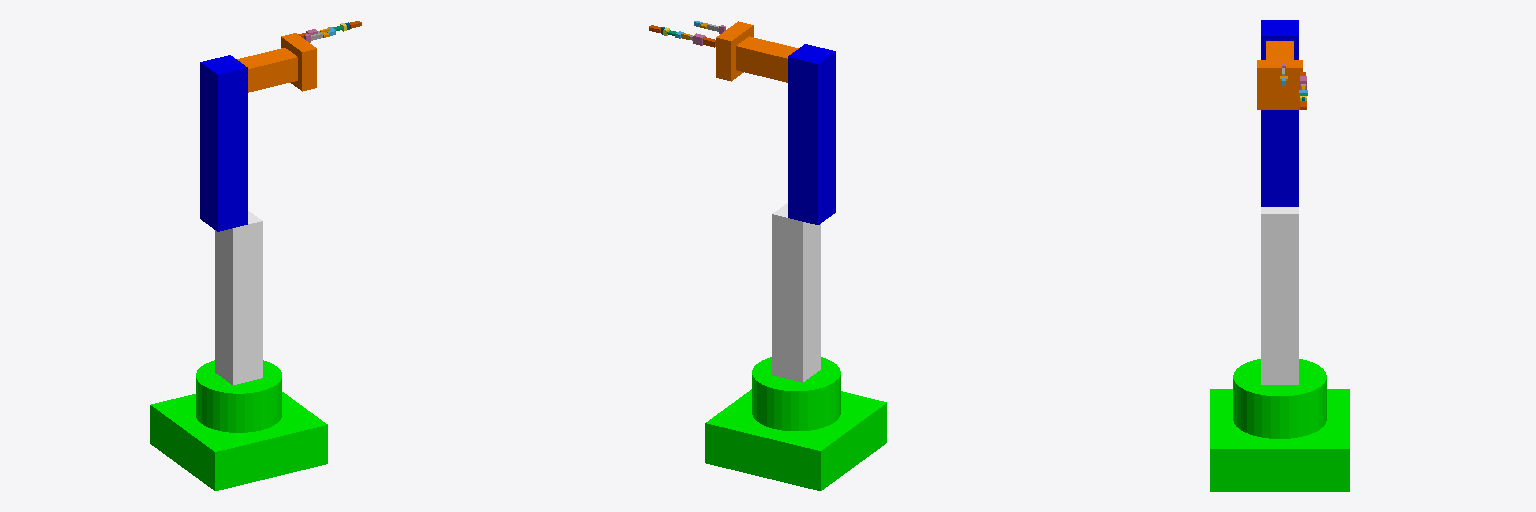
robot.urdf — robot:
<?xml version='1.0' encoding='utf-8'?>
<robot name="robot">
  <link name="base_link">
    <visual>
      <origin xyz="0 0 0.125" rpy="0 0 0" />
      <geometry>
        <box size="0.75 0.75 0.25" />
      </geometry>
      <material name="green" />
    </visual>
    <visual>
      <origin xyz="0 0 0.375" rpy="0 0 0" />
      <geometry>
        <cylinder length="0.25" radius="0.25" />
      </geometry>
      <material name="green">
        <color rgba="0 1 0 1" />
      </material>
    </visual>
    <collision>
      <geometry>
        <box size="0.75 0.75 0.5" />
      </geometry>
    </collision>
    <inertial>
      <mass value="0.5" />
      <inertia ixx="0.034" ixy="0.0" ixz="0.0" iyy="0.034" iyz="0.0" izz="0.034" />
    </inertial>
  </link>
  <link name="support_link">
    <visual>
      <origin xyz="0 0 0.5" rpy="0 0 0" />
      <geometry>
        <box size="0.2 0.2 1" />
      </geometry>
      <material name="white">
        <color rgba="1 1 1 1" />
      </material>
    </visual>
    <collision>
      <geometry>
        <box size="0.2 0.2 1" />
      </geometry>
    </collision>
    <inertial>
      <mass value="0.1" />
      <inertia ixx="0.01" ixy="0.0" ixz="0.0" iyy="0.01" iyz="0.0" izz="0.01" />
    </inertial>
  </link>
  <joint name="support_joint" type="continuous">
    <origin xyz="0 0 0.5" rpy="0 0 0" />
    <parent link="base_link" />
    <child link="support_link" />
    <axis xyz="0 0 1" />
  </joint>
  <link name="arm_link">
    <visual>
      <origin xyz="0 0 0.5" rpy="0 0 0" />
      <geometry>
        <box size="0.2 0.2 1" />
      </geometry>
      <material name="blue">
        <color rgba="0 0 1 1" />
      </material>
    </visual>
    <collision>
      <geometry>
        <box size="0.2 0.2 1" />
      </geometry>
    </collision>
    <inertial>
      <mass value="0.1" />
      <inertia ixx="0.01" ixy="0.0" ixz="0.0" iyy="0.01" iyz="0.0" izz="0.01" />
    </inertial>
  </link>
  <joint name="arm_joint" type="revolute">
    <origin xyz="-0.1 0 1" rpy="0 0 0" />
    <parent link="support_link" />
    <child link="arm_link" />
    <axis xyz="0 1 0" />
    <limit lower="-3.14" upper="3.14" effort="1.0" velocity="1.0" />
  </joint>
  <link name="wrist_link">
    <visual>
      <origin xyz="0 0 0.25" rpy="0 0 0" />
      <geometry>
        <box size="0.15 0.15 0.5" />
      </geometry>
      <material name="orange">
        <color rgba="1 0.5 0 1" />
      </material>
    </visual>
    <collision>
      <geometry>
        <box size="0.15 0.15 0.5" />
      </geometry>
    </collision>
    <inertial>
      <mass value="0.1" />
      <inertia ixx="0.01" ixy="0.0" ixz="0.0" iyy="0.01" iyz="0.0" izz="0.01" />
    </inertial>
  </link>
  <joint name="wrist_joint" type="fixed">
    <origin xyz="0 0 0.9" rpy="0 1.571 0" />
    <parent link="arm_link" />
    <child link="wrist_link" />
  </joint>
  <link name="palm_link">
    <visual>
      <origin xyz="0 0 0.05" rpy="0 0 0" />
      <geometry>
        <box size="0.25 0.25 0.1" />
      </geometry>
      <material name="orange" />
    </visual>
    <collision>
      <geometry>
        <box size="0.25 0.25 0.1" />
      </geometry>
    </collision>
    <inertial>
      <mass value="0.1" />
      <inertia ixx="0.01" ixy="0.0" ixz="0.0" iyy="0.01" iyz="0.0" izz="0.01" />
    </inertial>
  </link>
  <joint name="palm_joint" type="fixed">
    <origin xyz="0 0 0.45" rpy="0 0 0" />
    <parent link="wrist_link" />
    <child link="palm_link" />
  </joint>
  <link name="link_0_0">
    <visual>
      <origin xyz="0 0 0.039" rpy="0 0 0" />
      <geometry>
        <box size="0.034 0.032 0.078" />
      </geometry>
    </visual>
    <collision>
      <geometry>
        <box size="0.034 0.032 0.078" />
      </geometry>
    </collision>
    <inertial>
      <mass value="0.025" />
      <inertia ixx="0.0" iyy="0.0" izz="0.0" ixy="0" ixz="0" iyz="0" />
    </inertial>
  </link>
  <joint name="joint_palm_link_to_link_0_0" type="revolute">
    <origin xyz="-0.086 0.125 0.1" rpy="0 0 0" />
    <parent link="palm_link" />
    <child link="link_0_0" />
    <axis xyz="0.404 0.77 0.32" />
    <limit lower="-3.142" upper="3.142" effort="10" velocity="10" />
  </joint>
  <link name="link_0_1">
    <visual>
      <origin xyz="0 0 0.03" rpy="0 0 0" />
      <geometry>
        <box size="0.05 0.038 0.06" />
      </geometry>
    </visual>
    <collision>
      <geometry>
        <box size="0.05 0.038 0.06" />
      </geometry>
    </collision>
    <inertial>
      <mass value="0.034" />
      <inertia ixx="0.0" iyy="0.0" izz="0.0" ixy="0" ixz="0" iyz="0" />
    </inertial>
  </link>
  <joint name="joint_link_0_0_to_link_0_1" type="revolute">
    <origin xyz="0.0 0.0 0.078" rpy="0 0 0" />
    <parent link="link_0_0" />
    <child link="link_0_1" />
    <axis xyz="0.811 0.108 0.521" />
    <limit lower="-3.142" upper="3.142" effort="10" velocity="10" />
  </joint>
  <link name="link_0_2">
    <visual>
      <origin xyz="0 0 0.0125" rpy="0 0 0" />
      <geometry>
        <box size="0.021 0.022 0.025" />
      </geometry>
    </visual>
    <collision>
      <geometry>
        <box size="0.021 0.022 0.025" />
      </geometry>
    </collision>
    <inertial>
      <mass value="0.003" />
      <inertia ixx="0.0" iyy="0.0" izz="0.0" ixy="0" ixz="0" iyz="0" />
    </inertial>
  </link>
  <joint name="joint_link_0_1_to_link_0_2" type="revolute">
    <origin xyz="0.0 0.0 0.06" rpy="0 0 0" />
    <parent link="link_0_1" />
    <child link="link_0_2" />
    <axis xyz="0.904 0.073 0.923" />
    <limit lower="-3.142" upper="3.142" effort="10" velocity="10" />
  </joint>
  <link name="link_0_3">
    <visual>
      <origin xyz="0 0 0.0285" rpy="0 0 0" />
      <geometry>
        <box size="0.028 0.017 0.057" />
      </geometry>
    </visual>
    <collision>
      <geometry>
        <box size="0.028 0.017 0.057" />
      </geometry>
    </collision>
    <inertial>
      <mass value="0.008" />
      <inertia ixx="0.0" iyy="0.0" izz="0.0" ixy="0" ixz="0" iyz="0" />
    </inertial>
  </link>
  <joint name="joint_link_0_2_to_link_0_3" type="revolute">
    <origin xyz="0.0 0.0 0.025" rpy="0 0 0" />
    <parent link="link_0_2" />
    <child link="link_0_3" />
    <axis xyz="0.7 0.169 0.557" />
    <limit lower="-3.142" upper="3.142" effort="10" velocity="10" />
  </joint>
  <link name="link_0_4">
    <visual>
      <origin xyz="0 0 0.016" rpy="0 0 0" />
      <geometry>
        <box size="0.023 0.044 0.032" />
      </geometry>
    </visual>
    <collision>
      <geometry>
        <box size="0.023 0.044 0.032" />
      </geometry>
    </collision>
    <inertial>
      <mass value="0.01" />
      <inertia ixx="0.0" iyy="0.0" izz="0.0" ixy="0" ixz="0" iyz="0" />
    </inertial>
  </link>
  <joint name="joint_link_0_3_to_link_0_4" type="revolute">
    <origin xyz="0.0 0.0 0.057" rpy="0 0 0" />
    <parent link="link_0_3" />
    <child link="link_0_4" />
    <axis xyz="0.898 0.816 0.407" />
    <limit lower="-3.142" upper="3.142" effort="10" velocity="10" />
  </joint>
  <link name="link_0_5">
    <visual>
      <origin xyz="0 0 0.0275" rpy="0 0 0" />
      <geometry>
        <box size="0.012 0.034 0.055" />
      </geometry>
    </visual>
    <collision>
      <geometry>
        <box size="0.012 0.034 0.055" />
      </geometry>
    </collision>
    <inertial>
      <mass value="0.007" />
      <inertia ixx="0.0" iyy="0.0" izz="0.0" ixy="0" ixz="0" iyz="0" />
    </inertial>
  </link>
  <joint name="joint_link_0_4_to_link_0_5" type="revolute">
    <origin xyz="0.0 0.0 0.032" rpy="0 0 0" />
    <parent link="link_0_4" />
    <child link="link_0_5" />
    <axis xyz="0.785 0.339 0.425" />
    <limit lower="-3.142" upper="3.142" effort="10" velocity="10" />
  </joint>
  <link name="link_0_6">
    <visual>
      <origin xyz="0 0 0.0125" rpy="0 0 0" />
      <geometry>
        <box size="0.035 0.038 0.025" />
      </geometry>
    </visual>
    <collision>
      <geometry>
        <box size="0.035 0.038 0.025" />
      </geometry>
    </collision>
    <inertial>
      <mass value="0.01" />
      <inertia ixx="0.0" iyy="0.0" izz="0.0" ixy="0" ixz="0" iyz="0" />
    </inertial>
  </link>
  <joint name="joint_link_0_5_to_link_0_6" type="revolute">
    <origin xyz="0.0 0.0 0.055" rpy="0 0 0" />
    <parent link="link_0_5" />
    <child link="link_0_6" />
    <axis xyz="0.419 0.282 0.844" />
    <limit lower="-3.142" upper="3.142" effort="10" velocity="10" />
  </joint>
  <link name="link_0_7">
    <visual>
      <origin xyz="0 0 0.0115" rpy="0 0 0" />
      <geometry>
        <box size="0.04 0.017 0.023" />
      </geometry>
    </visual>
    <collision>
      <geometry>
        <box size="0.04 0.017 0.023" />
      </geometry>
    </collision>
    <inertial>
      <mass value="0.005" />
      <inertia ixx="0.0" iyy="0.0" izz="0.0" ixy="0" ixz="0" iyz="0" />
    </inertial>
  </link>
  <joint name="joint_link_0_6_to_link_0_7" type="revolute">
    <origin xyz="0.0 0.0 0.025" rpy="0 0 0" />
    <parent link="link_0_6" />
    <child link="link_0_7" />
    <axis xyz="0.996 0.958 0.288" />
    <limit lower="-3.142" upper="3.142" effort="10" velocity="10" />
  </joint>
  <link name="link_0_8">
    <visual>
      <origin xyz="0 0 0.037" rpy="0 0 0" />
      <geometry>
        <box size="0.022 0.034 0.074" />
      </geometry>
    </visual>
    <collision>
      <geometry>
        <box size="0.022 0.034 0.074" />
      </geometry>
    </collision>
    <inertial>
      <mass value="0.017" />
      <inertia ixx="0.0" iyy="0.0" izz="0.0" ixy="0" ixz="0" iyz="0" />
    </inertial>
  </link>
  <joint name="joint_link_0_7_to_link_0_8" type="revolute">
    <origin xyz="0.0 0.0 0.023" rpy="0 0 0" />
    <parent link="link_0_7" />
    <child link="link_0_8" />
    <axis xyz="0.706 0.774 0.224" />
    <limit lower="-3.142" upper="3.142" effort="10" velocity="10" />
  </joint>
  <link name="link_1_0">
    <visual>
      <origin xyz="0 0 0.016" rpy="0 0 0" />
      <geometry>
        <box size="0.049 0.022 0.032" />
      </geometry>
    </visual>
    <collision>
      <geometry>
        <box size="0.049 0.022 0.032" />
      </geometry>
    </collision>
    <inertial>
      <mass value="0.01" />
      <inertia ixx="0.0" iyy="0.0" izz="0.0" ixy="0" ixz="0" iyz="0" />
    </inertial>
  </link>
  <joint name="joint_palm_link_to_link_1_0" type="revolute">
    <origin xyz="-0.125 0.02 0.1" rpy="0 0 0" />
    <parent link="palm_link" />
    <child link="link_1_0" />
    <axis xyz="0.458 0.132 0.81" />
    <limit lower="-3.142" upper="3.142" effort="10" velocity="10" />
  </joint>
  <link name="link_1_1">
    <visual>
      <origin xyz="0 0 0.0405" rpy="0 0 0" />
      <geometry>
        <box size="0.027 0.018 0.081" />
      </geometry>
    </visual>
    <collision>
      <geometry>
        <box size="0.027 0.018 0.081" />
      </geometry>
    </collision>
    <inertial>
      <mass value="0.012" />
      <inertia ixx="0.0" iyy="0.0" izz="0.0" ixy="0" ixz="0" iyz="0" />
    </inertial>
  </link>
  <joint name="joint_link_1_0_to_link_1_1" type="revolute">
    <origin xyz="0.0 0.0 0.032" rpy="0 0 0" />
    <parent link="link_1_0" />
    <child link="link_1_1" />
    <axis xyz="0.467 0.863 0.894" />
    <limit lower="-3.142" upper="3.142" effort="10" velocity="10" />
  </joint>
  <link name="link_1_2">
    <visual>
      <origin xyz="0 0 0.0195" rpy="0 0 0" />
      <geometry>
        <box size="0.014 0.045 0.039" />
      </geometry>
    </visual>
    <collision>
      <geometry>
        <box size="0.014 0.045 0.039" />
      </geometry>
    </collision>
    <inertial>
      <mass value="0.007" />
      <inertia ixx="0.0" iyy="0.0" izz="0.0" ixy="0" ixz="0" iyz="0" />
    </inertial>
  </link>
  <joint name="joint_link_1_1_to_link_1_2" type="revolute">
    <origin xyz="0.0 0.0 0.081" rpy="0 0 0" />
    <parent link="link_1_1" />
    <child link="link_1_2" />
    <axis xyz="0.341 0.41 0.322" />
    <limit lower="-3.142" upper="3.142" effort="10" velocity="10" />
  </joint>
  <link name="link_1_3">
    <visual>
      <origin xyz="0 0 0.0235" rpy="0 0 0" />
      <geometry>
        <box size="0.025 0.023 0.047" />
      </geometry>
    </visual>
    <collision>
      <geometry>
        <box size="0.025 0.023 0.047" />
      </geometry>
    </collision>
    <inertial>
      <mass value="0.008" />
      <inertia ixx="0.0" iyy="0.0" izz="0.0" ixy="0" ixz="0" iyz="0" />
    </inertial>
  </link>
  <joint name="joint_link_1_2_to_link_1_3" type="revolute">
    <origin xyz="0.0 0.0 0.039" rpy="0 0 0" />
    <parent link="link_1_2" />
    <child link="link_1_3" />
    <axis xyz="0.994 0.563 0.56" />
    <limit lower="-3.142" upper="3.142" effort="10" velocity="10" />
  </joint>
</robot>

--- Render facts (derived) ---
Views: 3 orthographic renders of the robot side by side, from view 1: azimuth 30°, elevation 25°; view 2: azimuth 150°, elevation 25°; view 3: azimuth 270°, elevation 25°.
Model robot with 18 links and 17 joints (14 revolute, 1 continuous, 2 fixed), rooted at base_link, posed all joints at 0.
Visible links, largest first — view 1: base_link, arm_link, support_link, wrist_link, palm_link; view 2: base_link, arm_link, support_link, wrist_link, palm_link; view 3: base_link, support_link, arm_link, palm_link, wrist_link.
Link boxes in pixels (x1=…): base_link: x1=150, y1=360, x2=327, y2=490; arm_link: x1=200, y1=55, x2=247, y2=231; support_link: x1=215, y1=211, x2=262, y2=384; wrist_link: x1=237, y1=48, x2=297, y2=92; palm_link: x1=281, y1=33, x2=316, y2=91; base_link: x1=705, y1=357, x2=886, y2=490; arm_link: x1=788, y1=44, x2=835, y2=224; support_link: x1=772, y1=203, x2=820, y2=382; wrist_link: x1=736, y1=36, x2=798, y2=82; palm_link: x1=716, y1=21, x2=753, y2=81; base_link: x1=1210, y1=359, x2=1349, y2=491; support_link: x1=1261, y1=207, x2=1298, y2=384; arm_link: x1=1261, y1=20, x2=1298, y2=206; palm_link: x1=1257, y1=60, x2=1302, y2=109; wrist_link: x1=1266, y1=41, x2=1293, y2=59.
Bounding box of the posed robot: 1.25 × 0.75 × 2.55 m (x, y, z).
Geometry: primitives only (box / cylinder / sphere), no mesh files.
